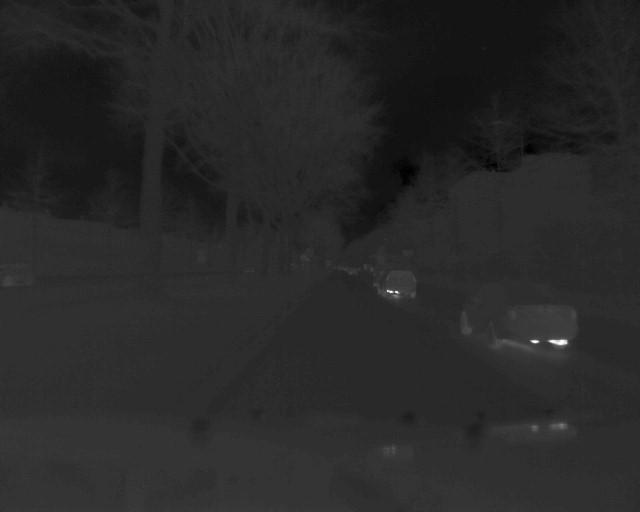car: (458, 280, 580, 356), (378, 268, 419, 301)
